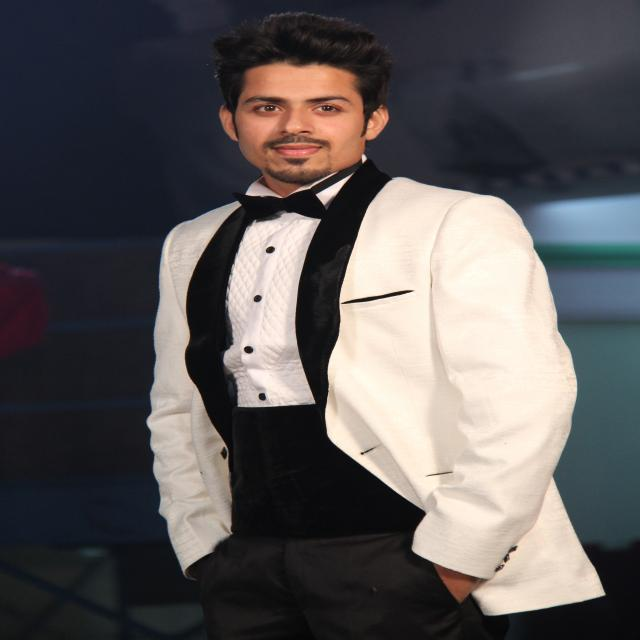earlobe: (366, 130, 376, 141), (230, 132, 238, 141)
eye: (254, 104, 282, 112), (312, 105, 338, 112)
nose: (278, 130, 313, 140)
wholeear: (365, 103, 389, 141), (219, 106, 238, 140)
